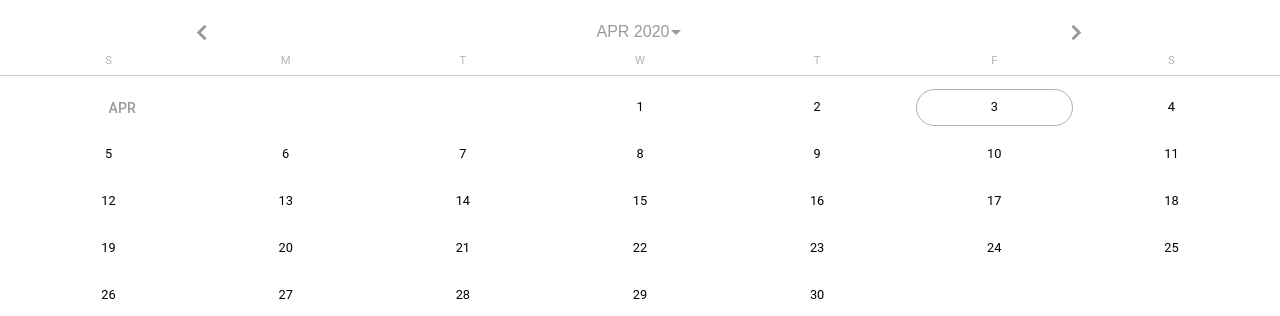
it: Header buttons › Choosing a year switches to the month selection view
Click the button "APR 2020".
click(640, 32)  # box [556,16,723,48]
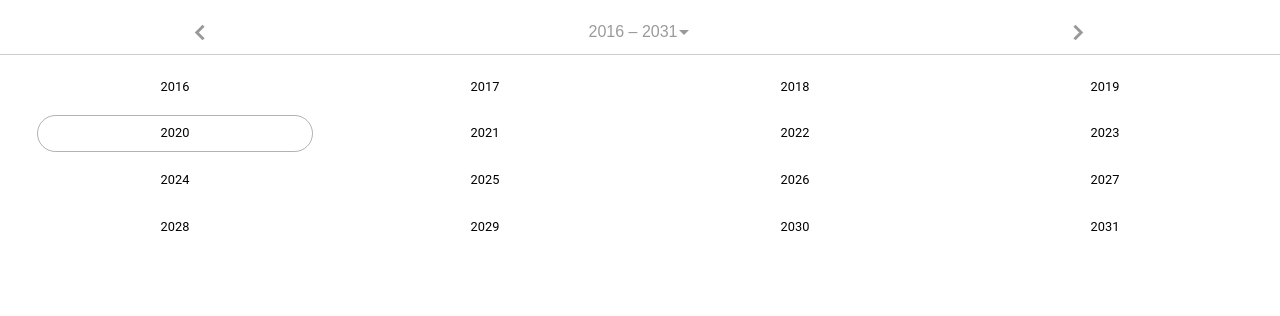
Expected: the button "2016 – 2031" is shown, [548,16,732,48]
Expected: the cell "2016" is shown
Click the cell "2016".
click(175, 87)  # box [20,63,330,110]
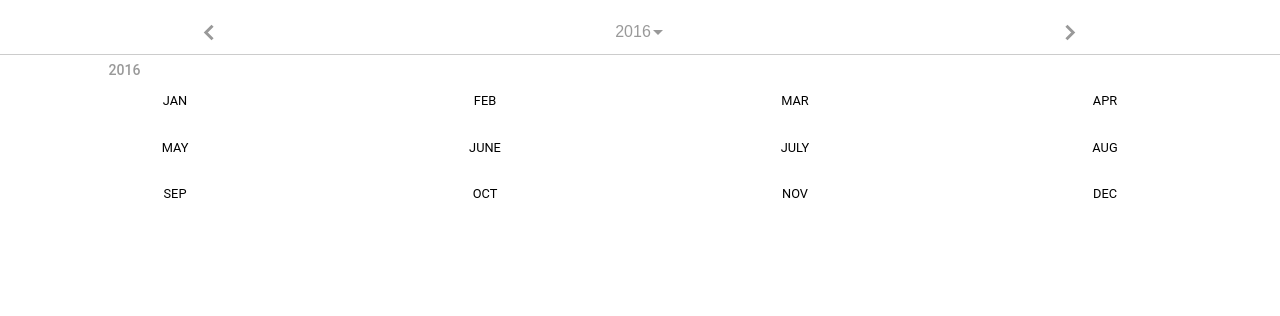
Expected: the button "2016" is shown, [575,16,705,48]
Expected: the cell "JAN" is shown, [20,77,330,124]
